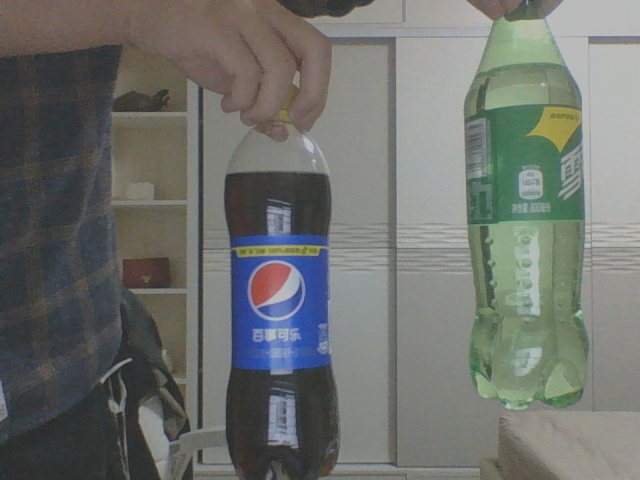Cola: (224, 84, 342, 475)
Sprite: (461, 4, 592, 413)
